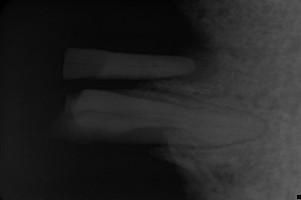Dental Caries: (171, 23, 220, 83)
